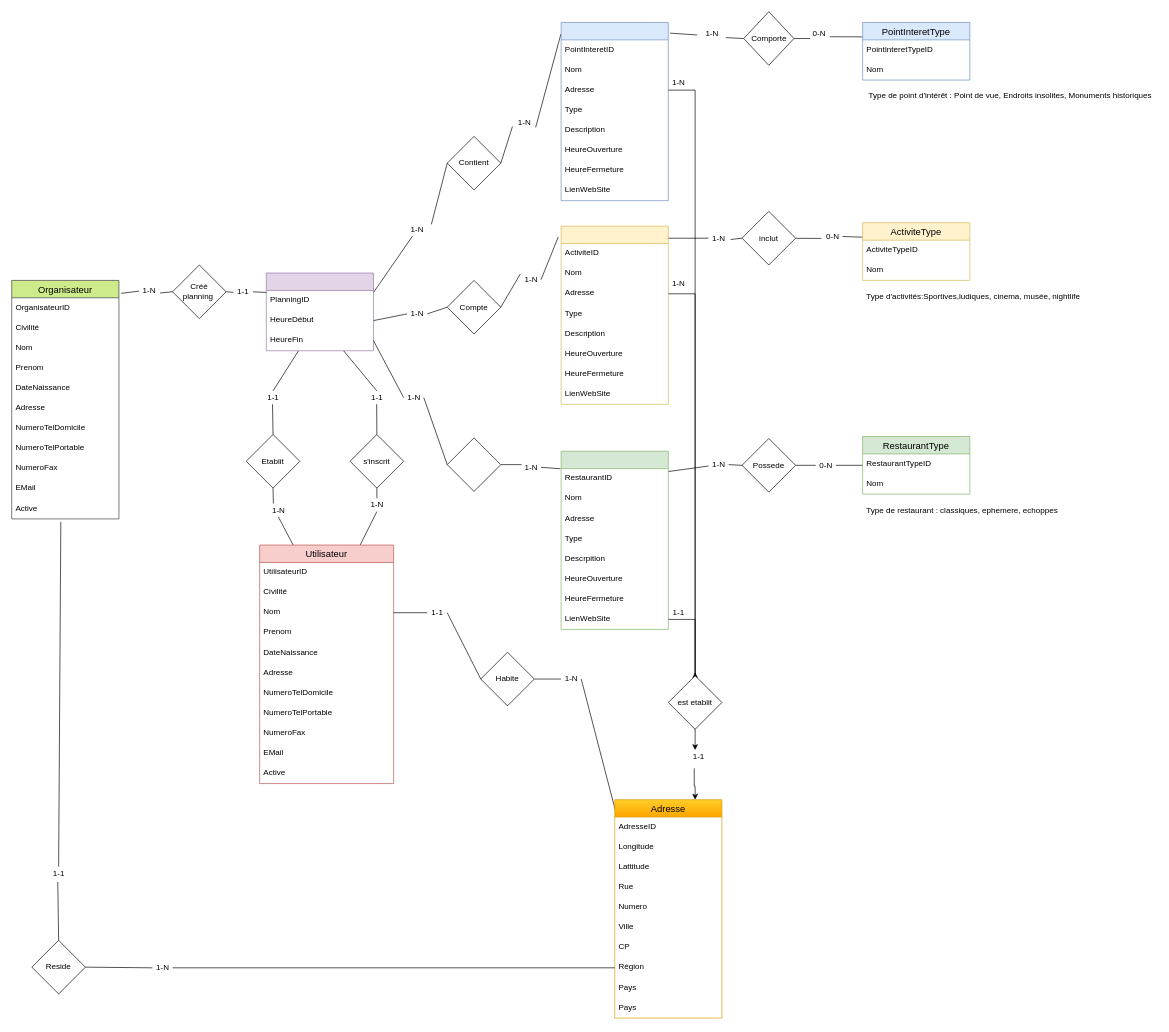
Some shapes in this 1169 by 1032 pixel diagram are drawn without their labels. Here are the shapes that lost their labels. From the top down, the box of each, then its label:
(560, 22, 668, 201): Point d'intérêt
(266, 272, 374, 351): Planning journee
(560, 225, 668, 404): Activités
(447, 437, 501, 491): Comprend
(560, 451, 668, 629): Restaurants
